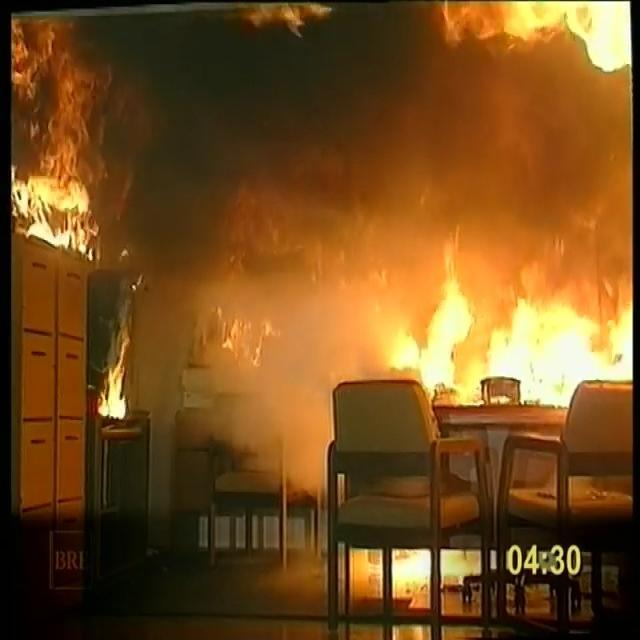Fire: (408, 246, 621, 388), (13, 22, 143, 252), (94, 333, 133, 417)
